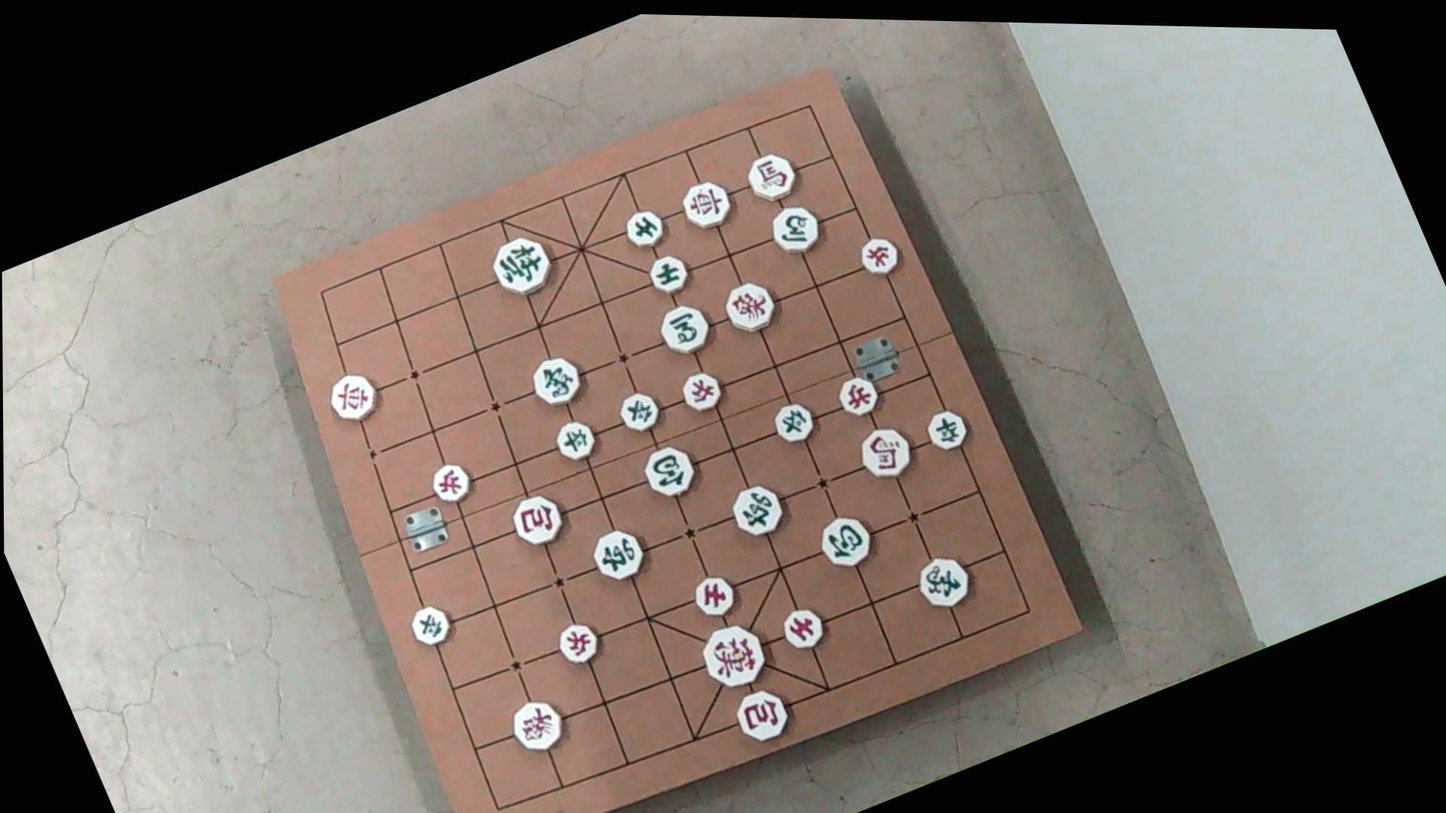cha_green: (726, 479, 790, 543), (587, 525, 649, 588)
cha_red: (323, 366, 384, 429), (679, 176, 737, 236)
jol_green: (923, 405, 972, 455), (550, 416, 598, 465), (773, 400, 821, 449), (407, 602, 454, 651), (618, 388, 667, 435)
jol_red: (553, 617, 603, 668), (679, 367, 728, 416), (428, 459, 476, 508), (834, 374, 882, 423), (855, 230, 902, 279)
ma_green: (654, 299, 715, 361), (765, 199, 825, 260)
ma_red: (856, 420, 919, 485), (745, 149, 803, 208)
po_green: (813, 509, 877, 575), (639, 441, 702, 506)
po_red: (731, 683, 795, 748), (507, 489, 568, 551)
sa_green: (622, 204, 670, 252), (646, 250, 694, 297)
sa_red: (689, 569, 740, 621), (778, 602, 828, 655)
sang_green: (911, 550, 975, 614), (526, 351, 586, 413)
sang_red: (504, 693, 570, 760), (721, 276, 781, 336)
wang_green: (487, 231, 557, 303)
wang_red: (694, 616, 773, 696)
